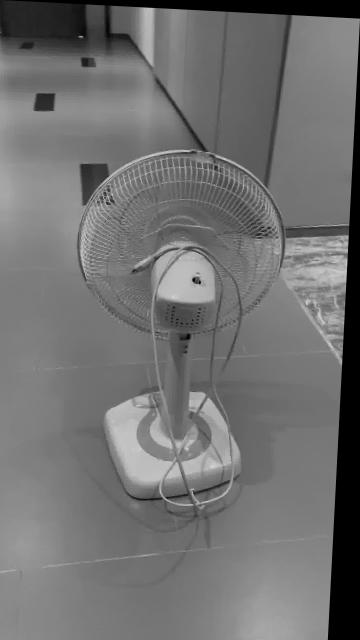Fan: (79, 148, 287, 499)
